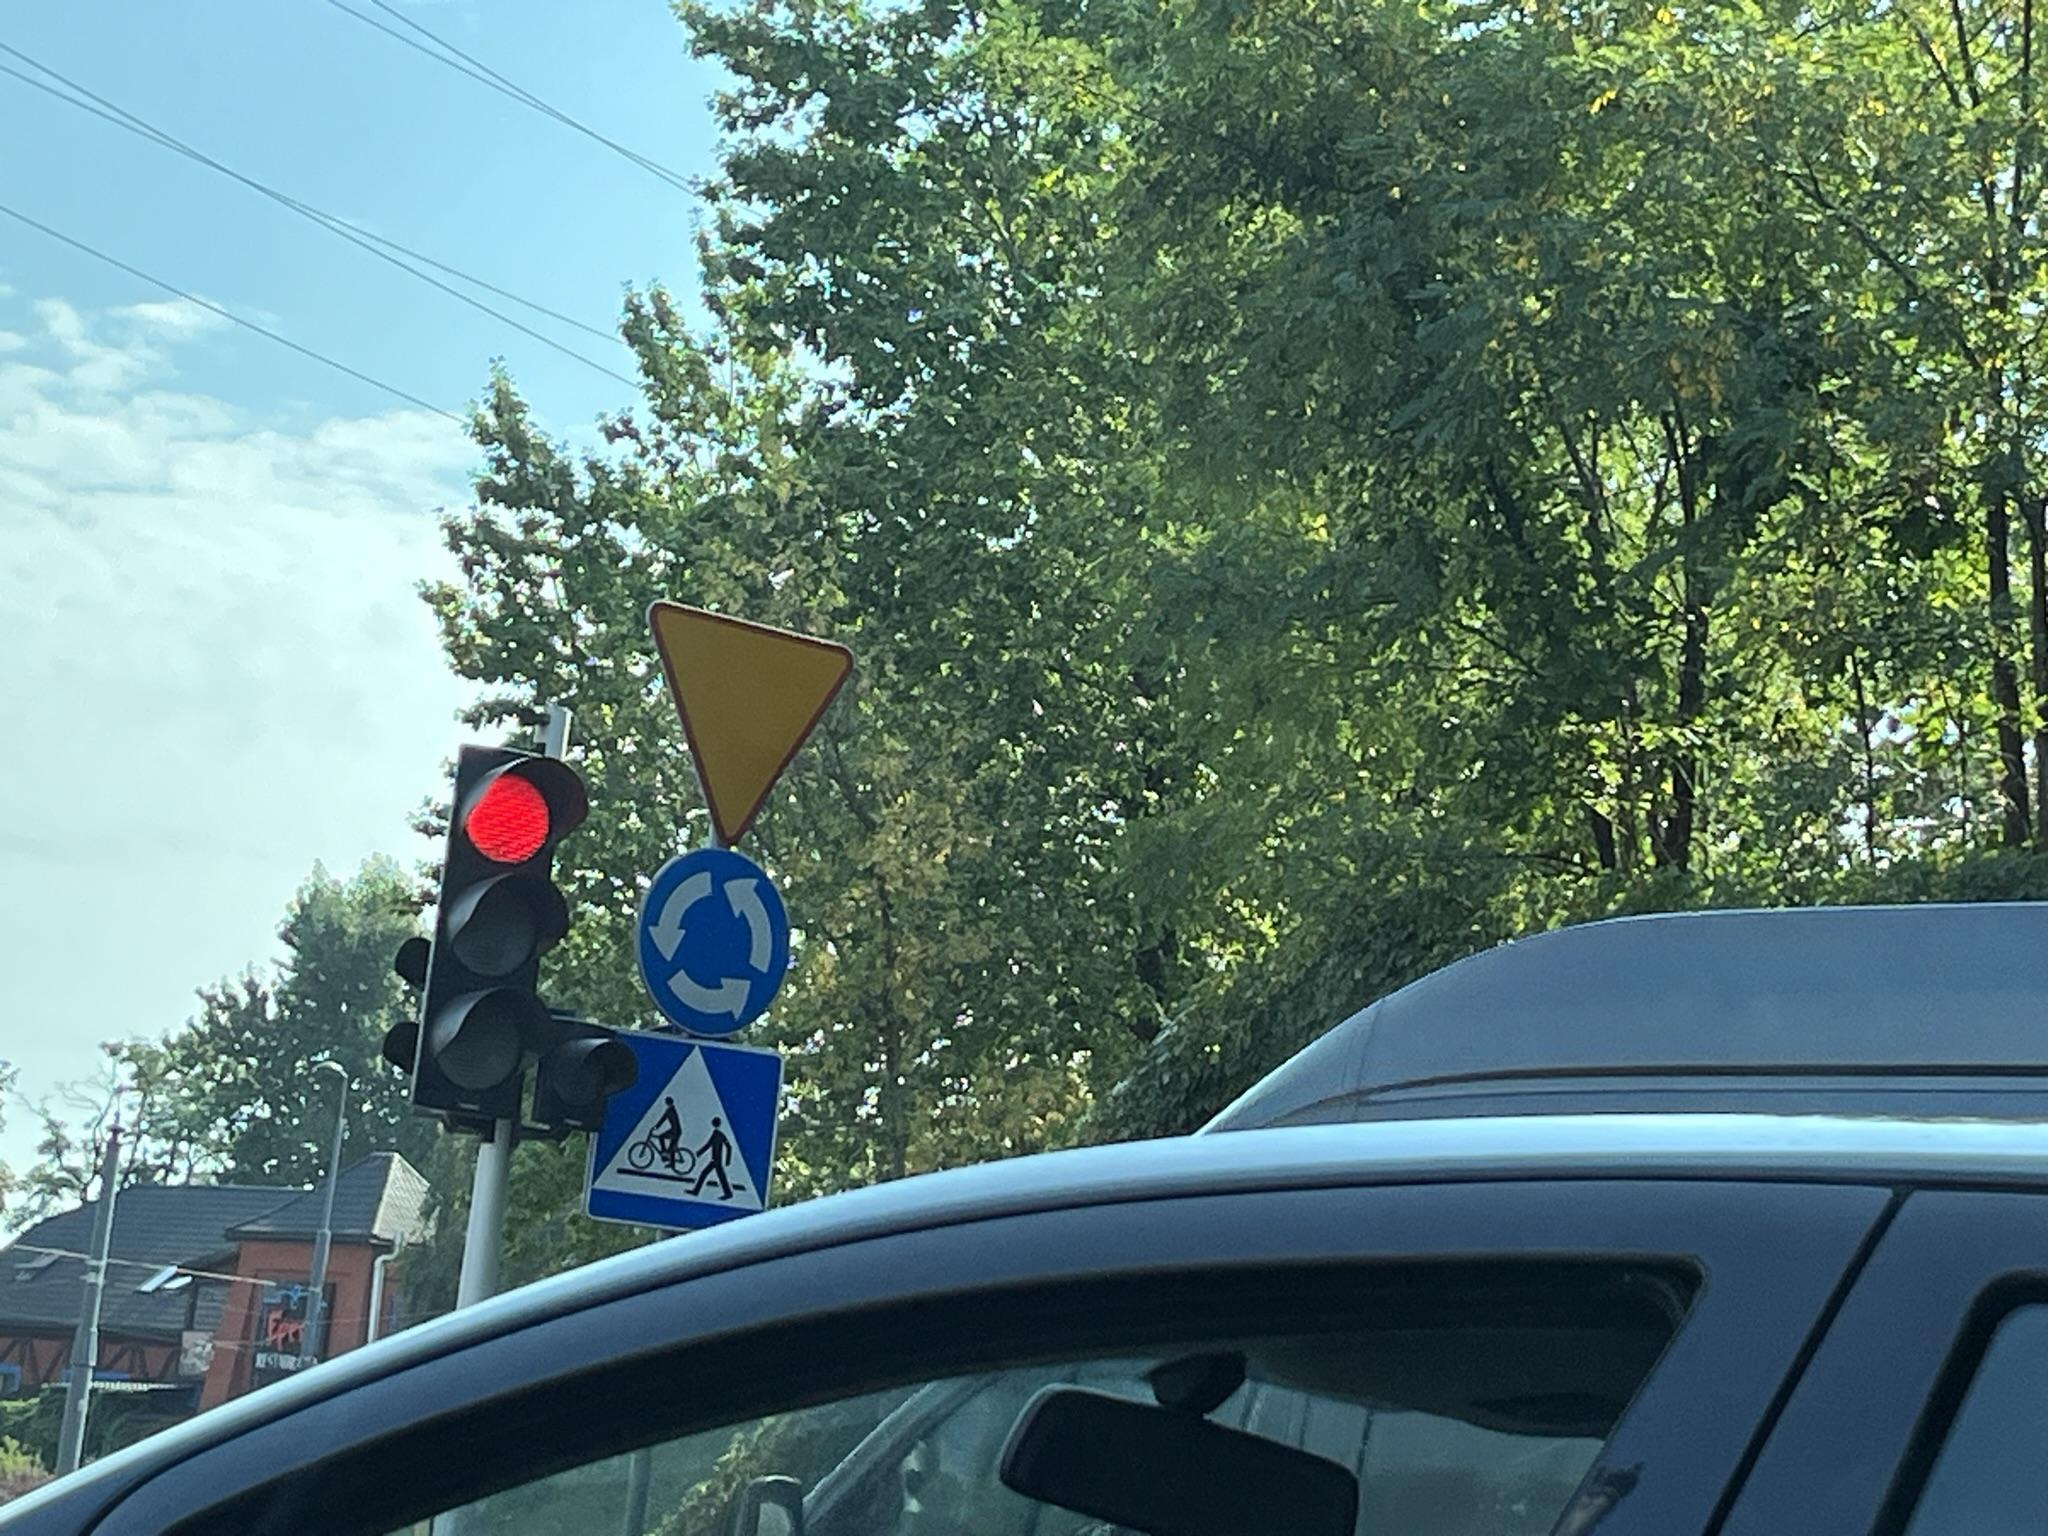information: (592, 1033, 786, 1226), (633, 848, 793, 1039)
warning: (644, 598, 856, 852)
